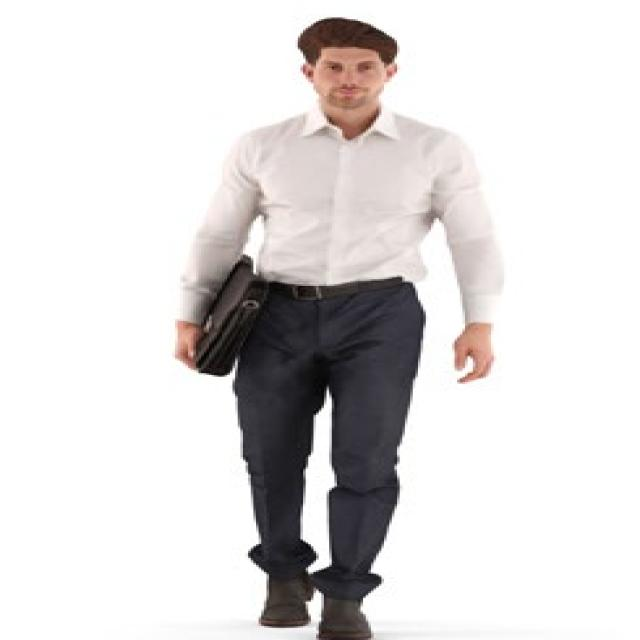standing: (172, 16, 508, 640)
